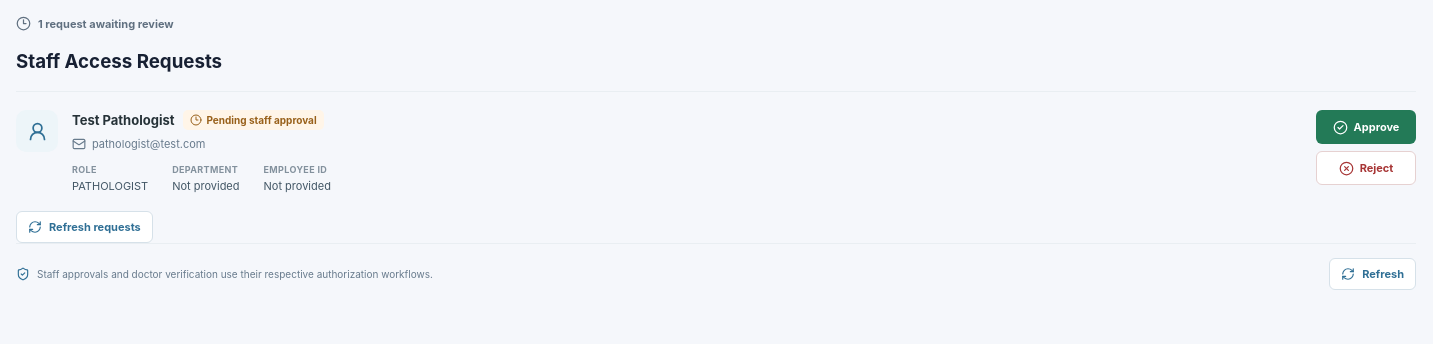
Test: AdminPendingApprovals › rejects a user and removes them from the list
Expected: the heading "Test Pathologist" is shown, [72,112,174,128]
Click the button "Reject".
click(1366, 168)  # box [1316,151,1416,185]
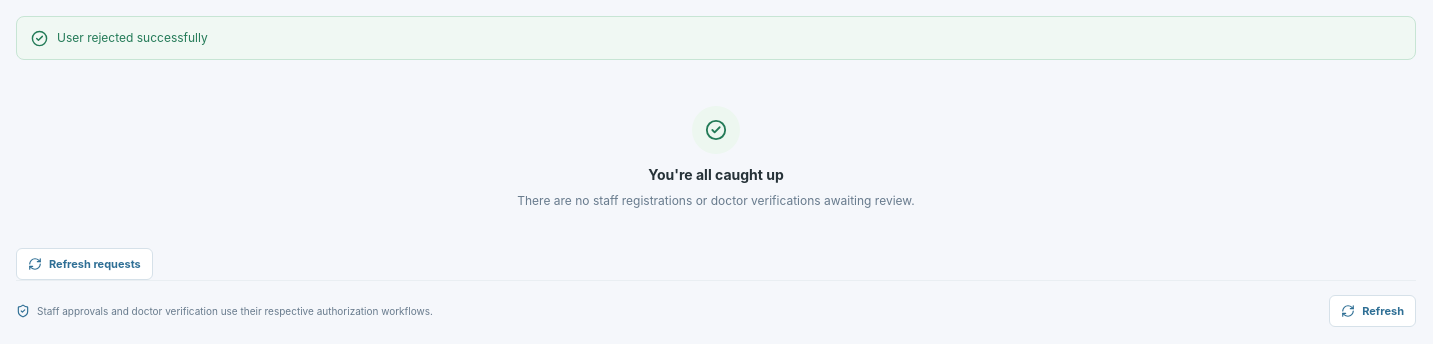
Now the heading "Test Pathologist" is gone
Now the text "User rejected successfully" is shown, box [57,30,208,45]
